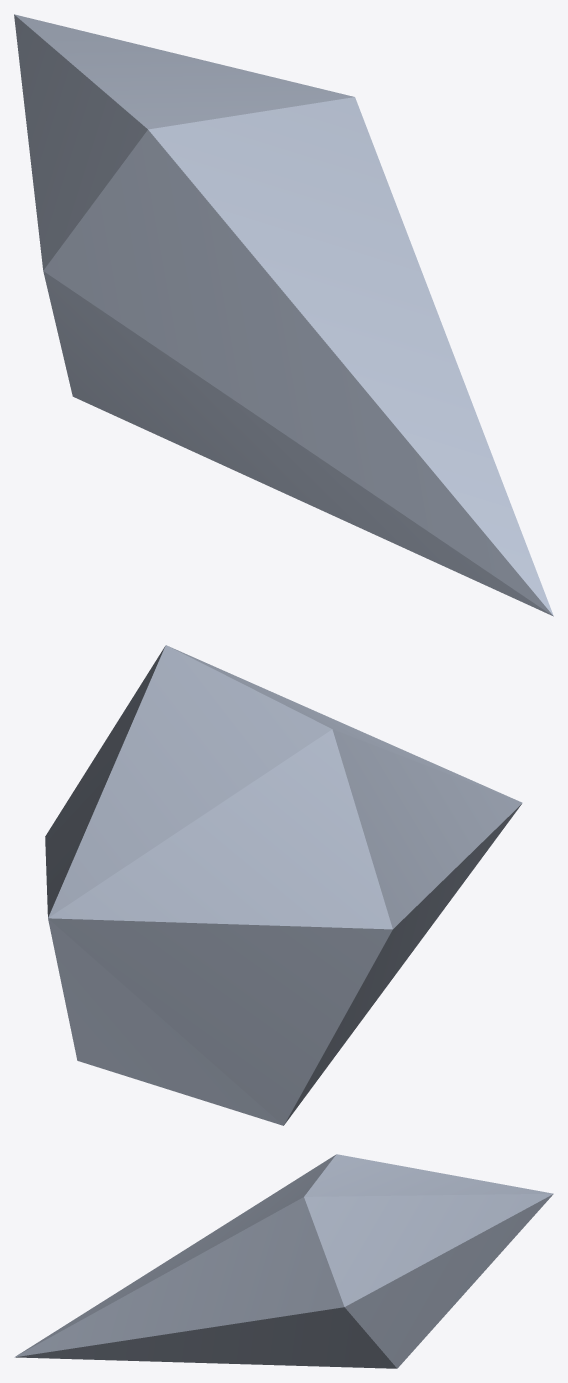
Rendered from shard.glb.
3 views of the same model, one above another, from view 1: azimuth 30°, elevation 25°; view 2: azimuth 150°, elevation 25°; view 3: azimuth 270°, elevation 25° (orthographic). The views are drawn at different scales.
Visible parts, largest first — view 1: shard; view 2: shard; view 3: shard.
Part boxes in pixels (box(x1,y1,x2,y2)): shard: box(14, 14, 553, 616); shard: box(45, 645, 522, 1125); shard: box(14, 1154, 553, 1368).
Size of the model in its own units: 0.6017 by 0.5547 by 1.53.
